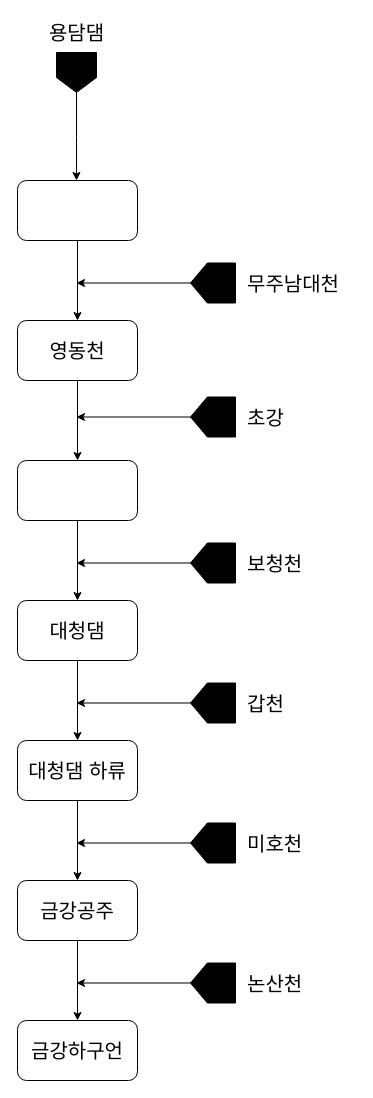
This 373x1098 diagram has some shape labels left out. Each missing label, with the centre of its shape:
"대청댐 상류" goes at (x=77, y=490).
"용담댐 하류" goes at (x=77, y=210).
